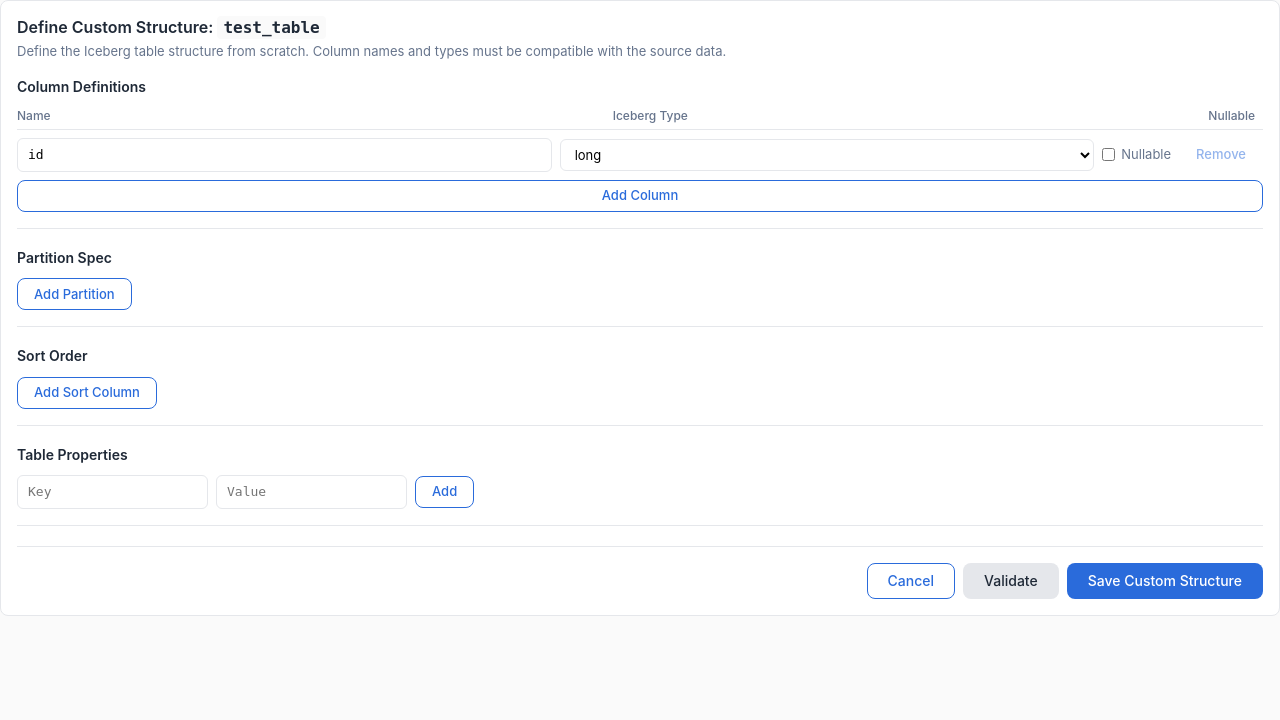
Test: IcebergCustomStructureEditor › adds a sort column when Add Sort Column is clicked
This screenshot has width=1280, height=720.
Step 1. Click the button "Add Sort Column" → [87, 392], box [17,376,157,408]
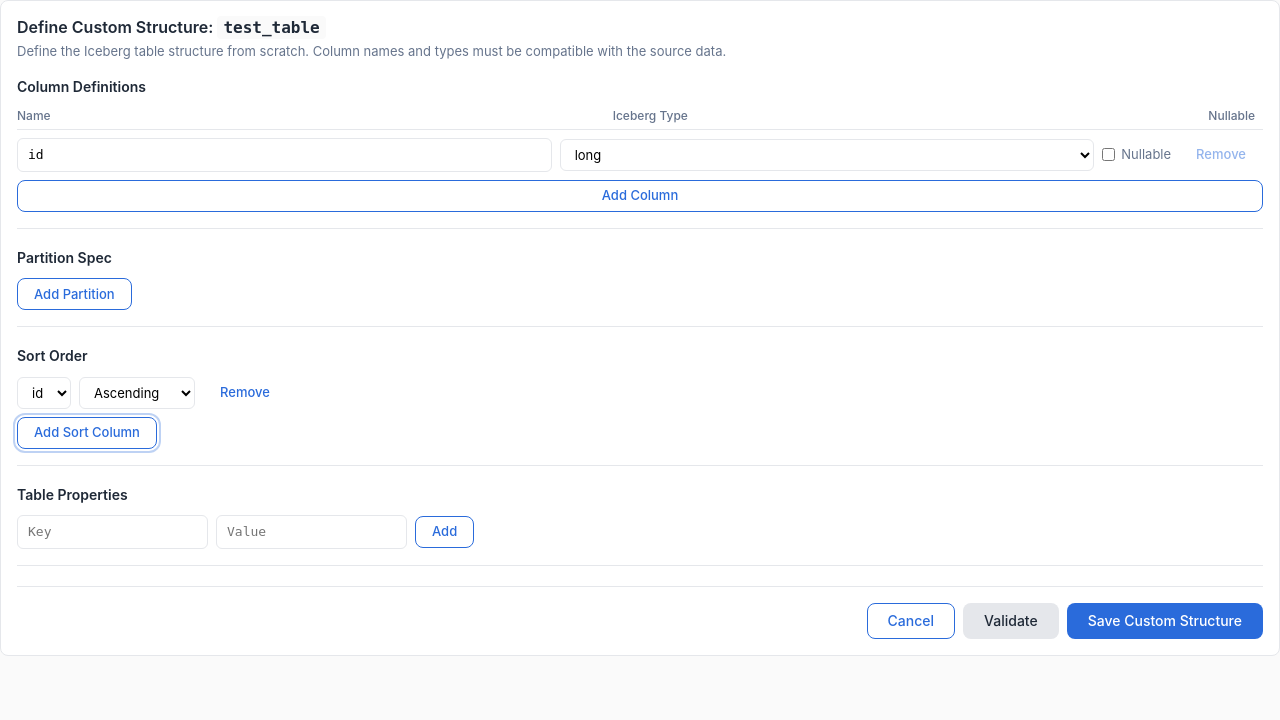
Expected: the dropdown named "Sort 1 column" is shown, [17,376,71,408]
Expected: the dropdown named "Sort 1 direction" is shown, [79,376,195,408]
